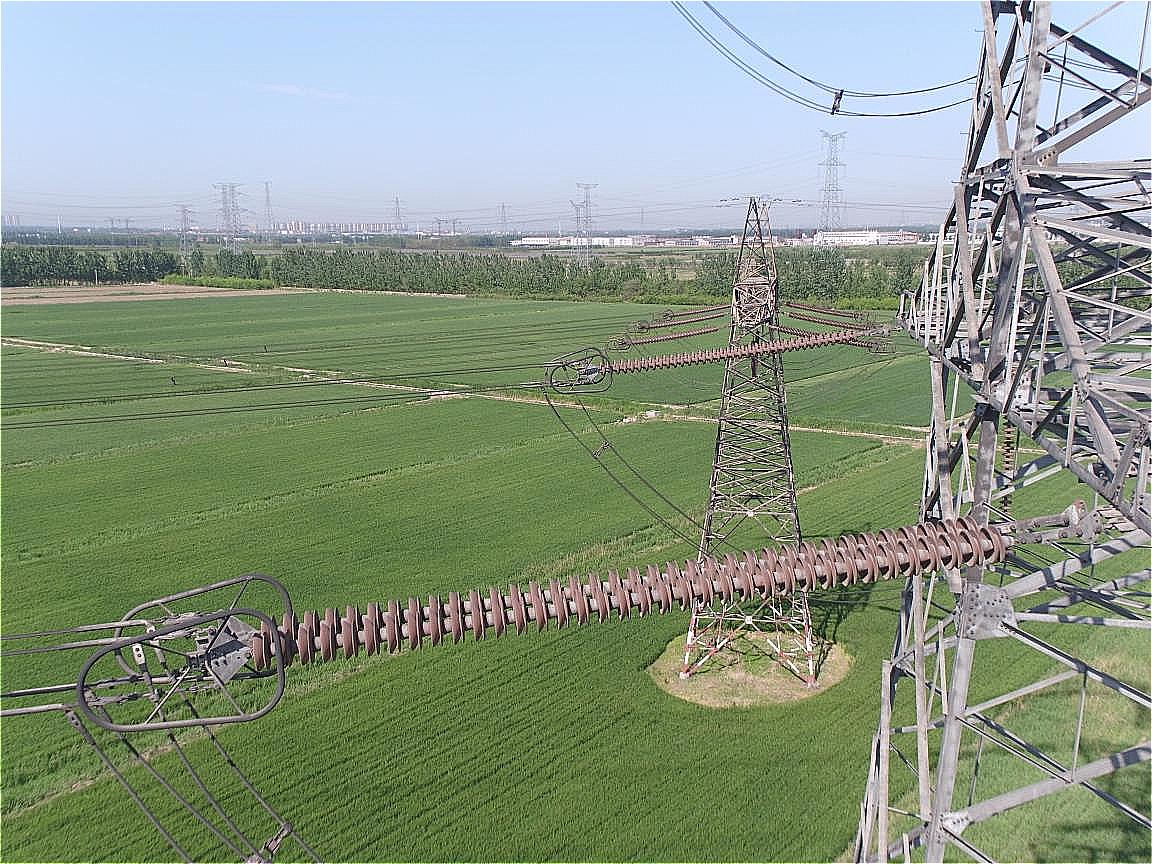insultor1: (599, 311, 895, 386)
insultor2: (216, 507, 1014, 672)
